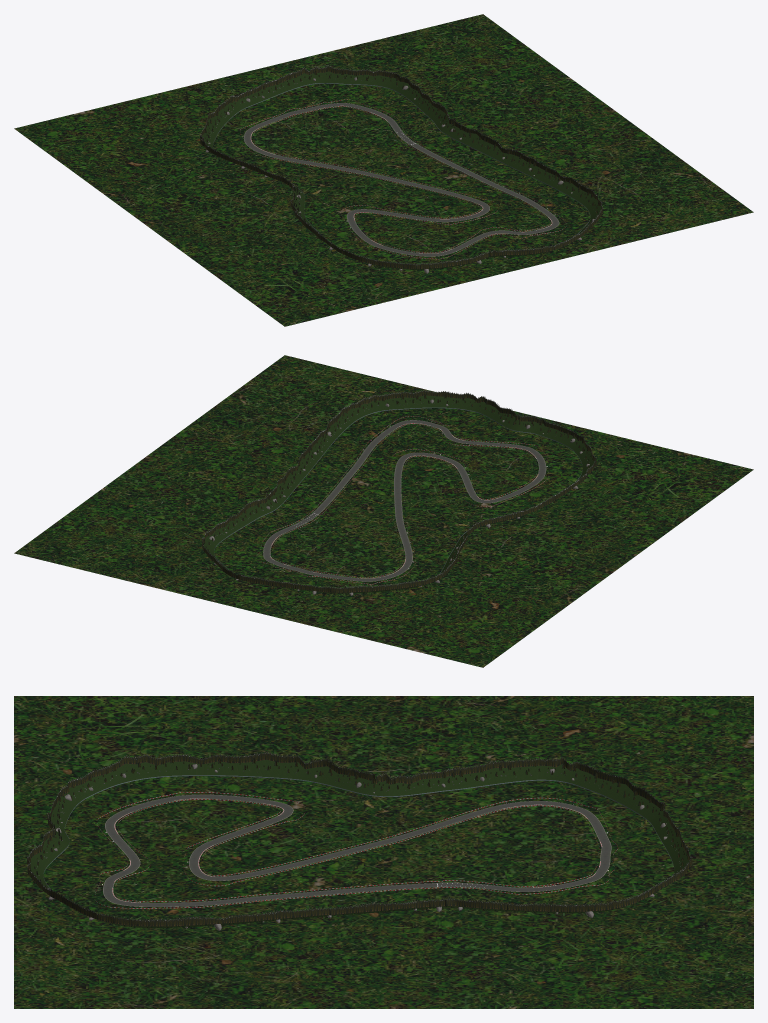
The picture shows the model from 3 angles, top to bottom: view 1: azimuth 30°, elevation 25°; view 2: azimuth 150°, elevation 25°; view 3: azimuth 270°, elevation 25°; orthographic projection. The views are drawn at different scales.
Parts seen in each view (by area): view 1: Plane, RaceTrack_Wall_00, RaceTrack_Main_00; view 2: Plane, RaceTrack_Wall_00, RaceTrack_Main_00; view 3: Plane, RaceTrack_Wall_00, RaceTrack_Main_00.
Part boxes in pixels (x1,y1,x2,y2): Plane: (14, 14, 753, 326); RaceTrack_Wall_00: (200, 65, 603, 269); RaceTrack_Main_00: (243, 103, 559, 256); Plane: (14, 355, 753, 667); RaceTrack_Wall_00: (202, 390, 596, 593); RaceTrack_Main_00: (263, 420, 546, 581); Plane: (14, 696, 753, 1008); RaceTrack_Wall_00: (27, 751, 692, 928); RaceTrack_Main_00: (103, 794, 611, 907).
Size of the model in its own units: 1200 by 34.81 by 1200.
